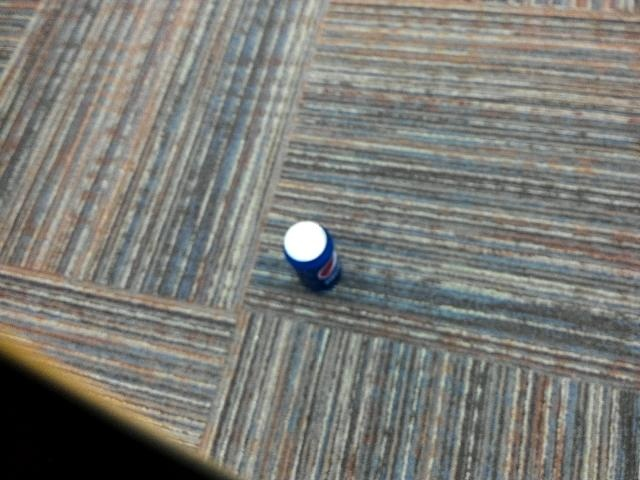can: (279, 211, 346, 302)
